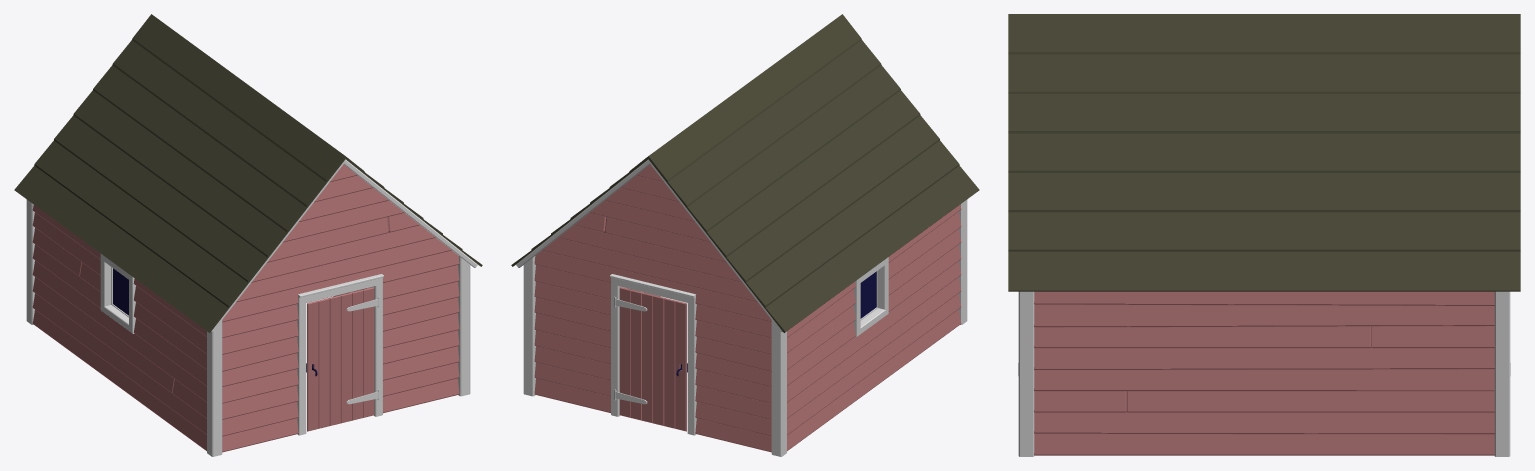
The model's file is fishingHut.gltf.
The picture shows the model from 3 angles, left to right: view 1: azimuth 30°, elevation 25°; view 2: azimuth 150°, elevation 25°; view 3: azimuth 270°, elevation 25°; orthographic projection. The views are drawn at different scales.
Parts seen in each view (by area): view 1: Roof.tile, plankwall.ends, plankwall.sides, door, hutCorner, door.frame, window.frame, Roof; view 2: Roof.tile, plankwall.ends, plankwall.sides, door, hutCorner, door.frame, window.frame, Roof; view 3: Roof.tile, plankwall.sides, hutCorner.
Boxes of the visible parts, x1,y1,x2,y2 form: Roof.tile: (14,14,482,332); plankwall.ends: (222,164,459,452); plankwall.sides: (32,205,369,450); door: (307,287,374,431); hutCorner: (26,199,470,456); door.frame: (297,274,383,435); window.frame: (100,254,135,333); Roof: (211,159,477,331); Roof.tile: (511,14,979,332); plankwall.ends: (534,164,771,452); plankwall.sides: (624,204,961,450); door: (619,287,686,431); hutCorner: (523,199,967,456); door.frame: (610,274,696,435); window.frame: (853,257,888,337); Roof: (516,159,782,331); Roof.tile: (1008,14,1520,291); plankwall.sides: (1034,291,1494,455); hutCorner: (1018,291,1510,456).
Bounding box in the file's own units: 4.27 × 4.06 × 5.23.
